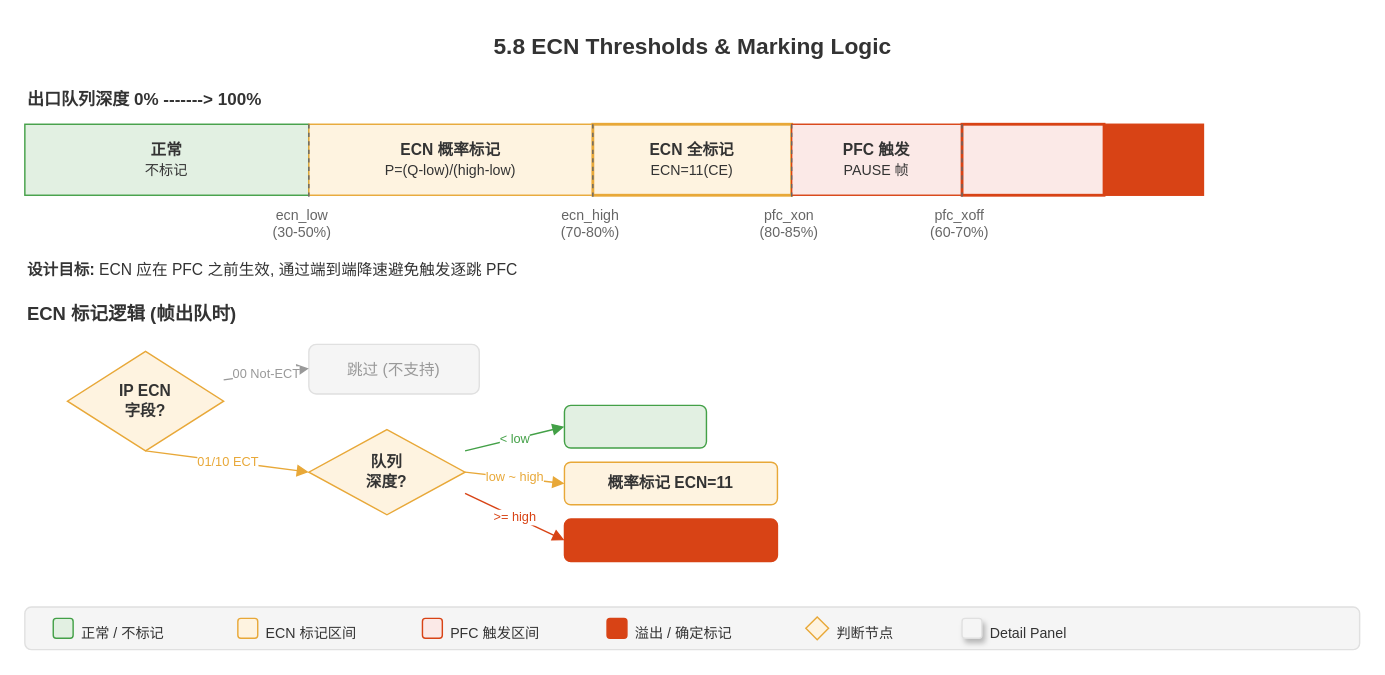
This 1385x675 diagram has some shape labels left out. The shapes that lost their labels are listed below. From the top down, each one's centre as x and y in pixels, then its label:
At point 1032,159: "PFC 持续".
At point 1153,159: "溢出!".
At point 634,426: "不标记".
At point 670,540: "确定标记 ECN=11".
